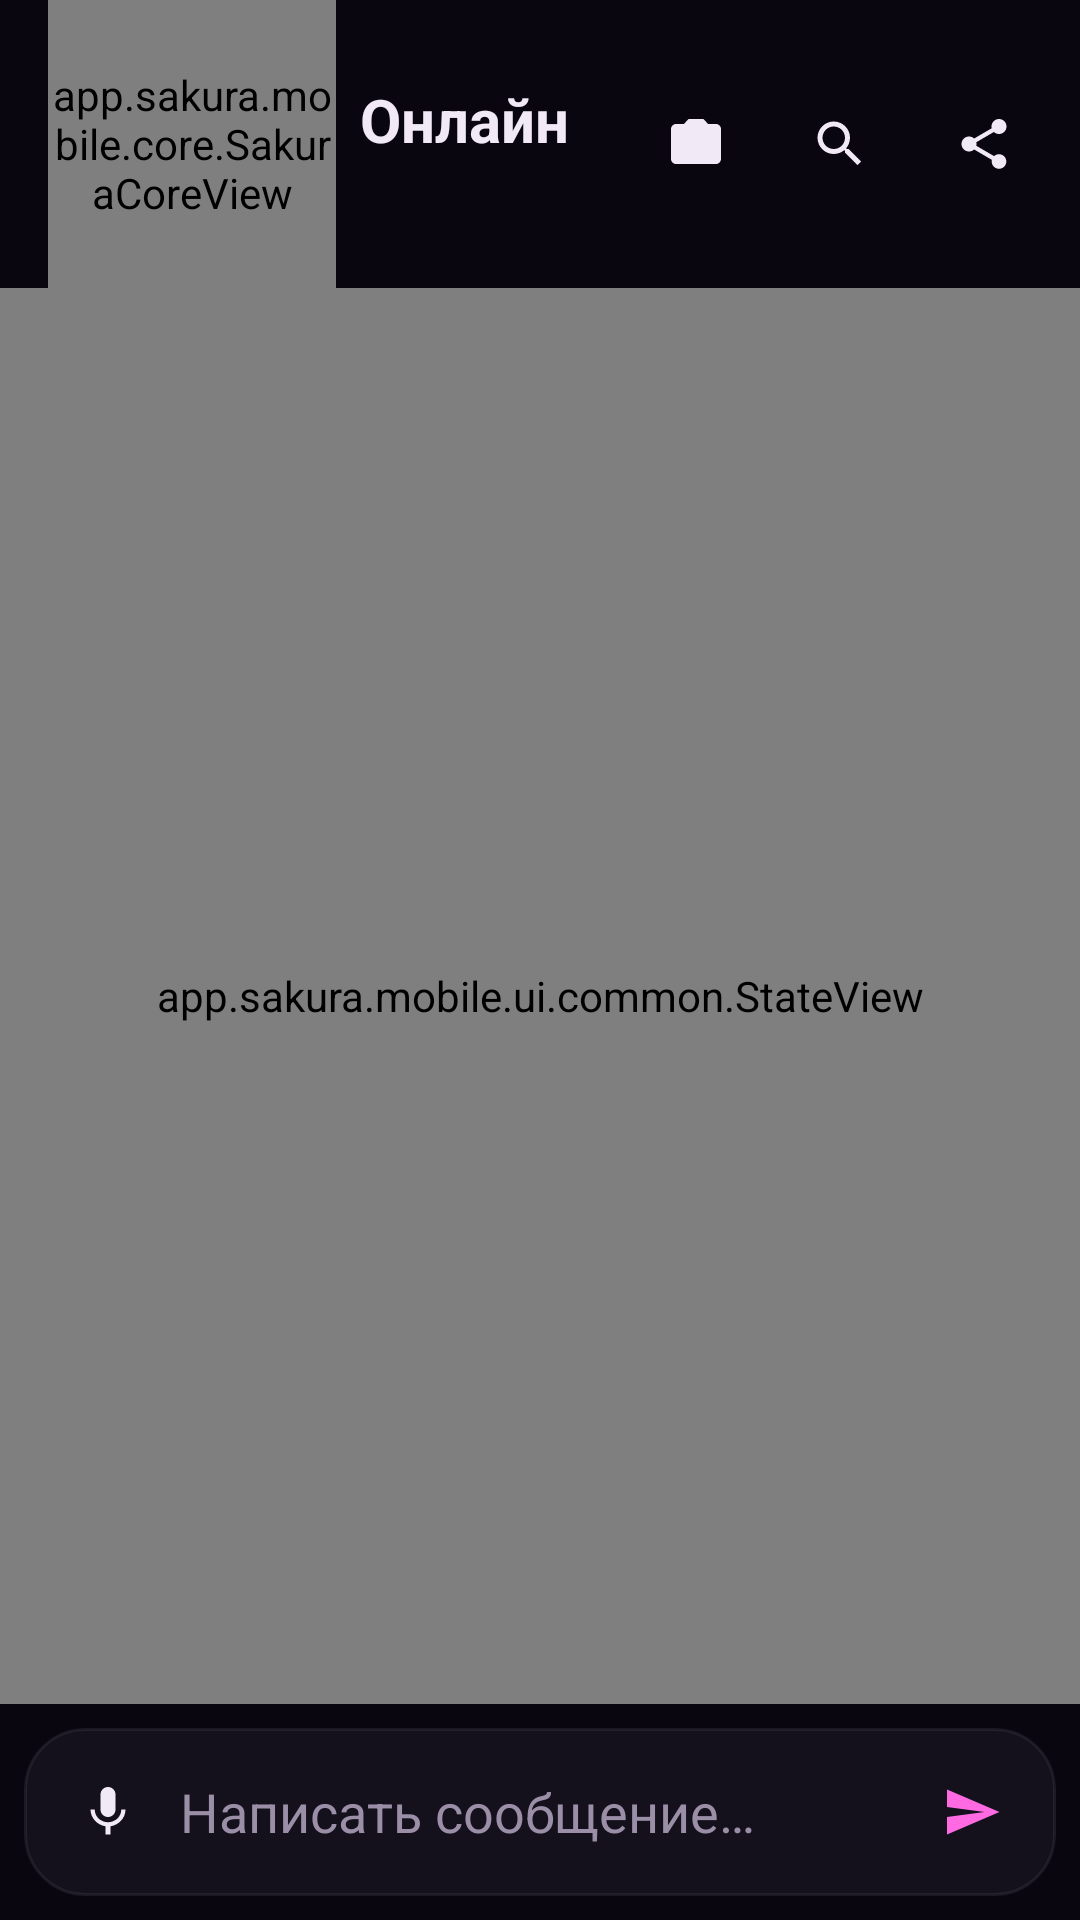

Where icons sit on this 1080*1920 app screen, as (x1, y1, x2, y2):
Говорить: (90, 1787, 126, 1835)
Отправить: (947, 1789, 999, 1835)
Поиск по переписке: (817, 121, 861, 165)
Что это? (камера): (671, 119, 721, 164)
Экспорт переписки: (961, 119, 1007, 169)
